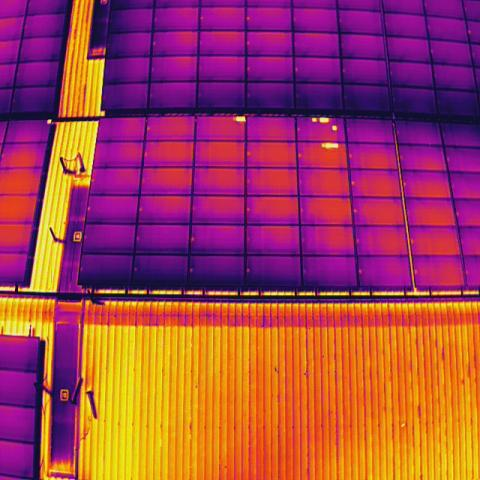fault: (232, 115, 246, 125), (318, 115, 330, 125), (330, 124, 340, 132), (325, 142, 332, 152), (310, 115, 317, 124), (45, 118, 53, 125), (320, 142, 326, 150), (332, 143, 339, 149)
